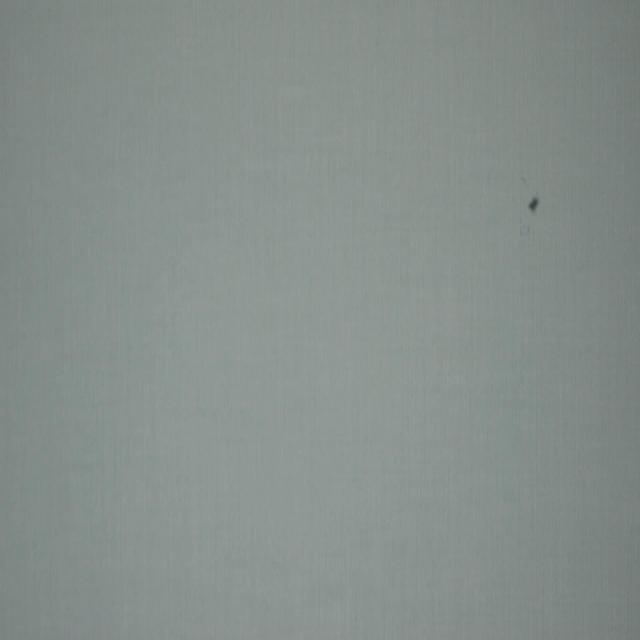dirty: (528, 195, 540, 212)
